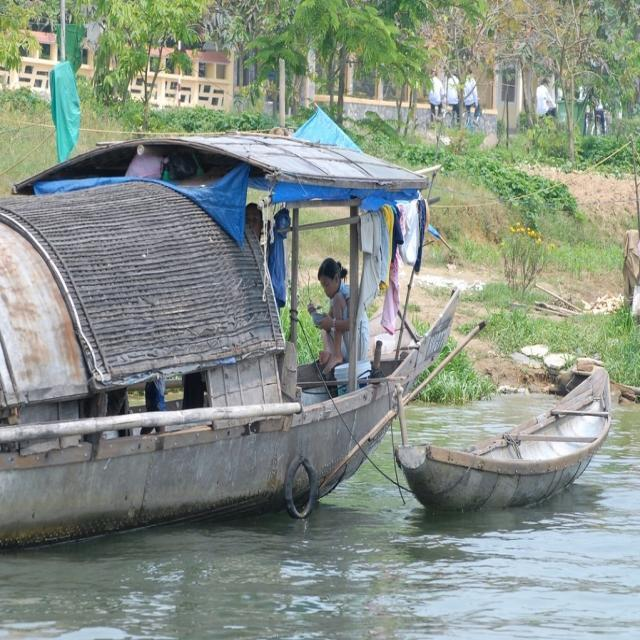boat: (1, 150, 468, 542), (386, 366, 612, 536)
